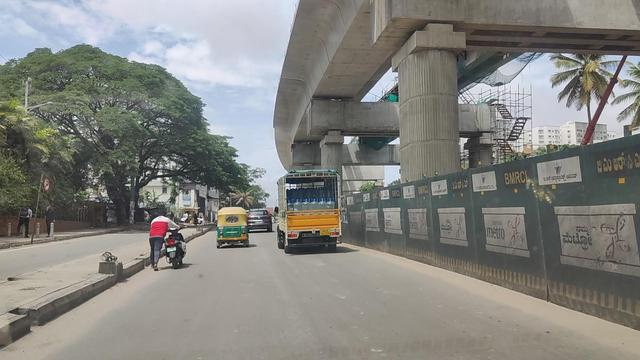HMV: (277, 172, 342, 254)
LMV: (217, 207, 249, 246)
